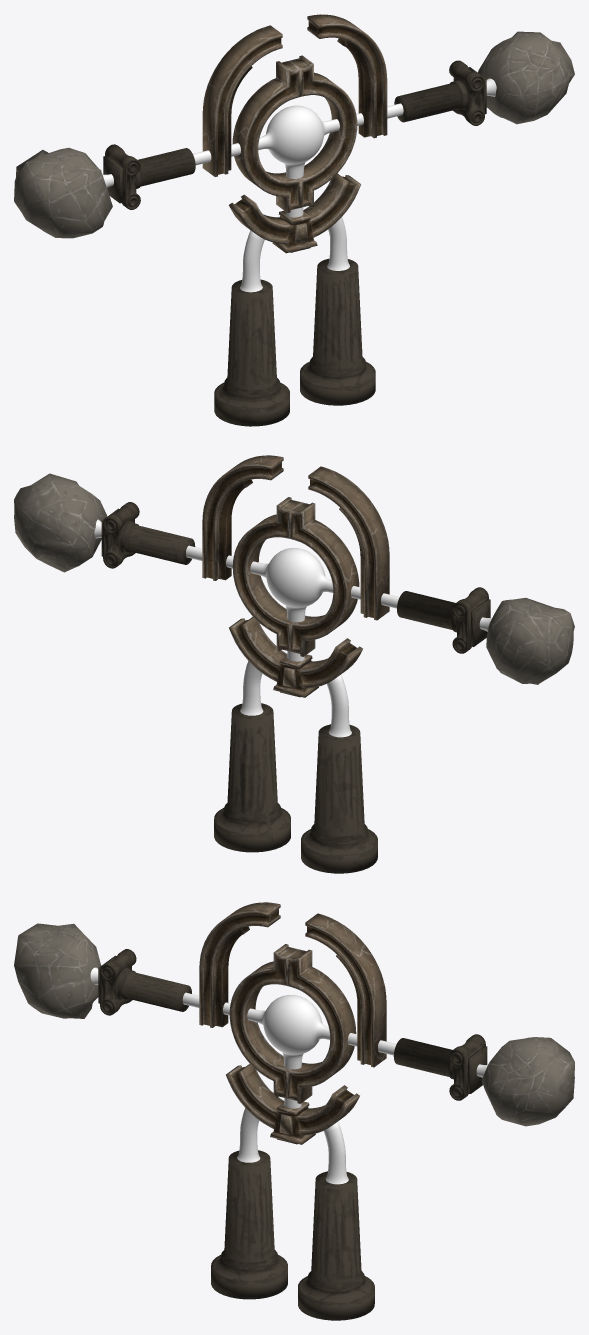
The model's file is animacion jefe.fbx.
3 views of the same model, one above another, from view 1: azimuth 30°, elevation 25°; view 2: azimuth 150°, elevation 25°; view 3: azimuth 330°, elevation 25° (orthographic).
Visible parts, largest first — view 1: pieza 1.007, pieza 2.004, pieza 2.007, pieza 3.004, cuerpo .001, pieza 3.005, pieza 1.005, pieza 1.004, pieza 1.006, pieza 2.005, pieza 2.006; view 2: pieza 1.007, pieza 2.004, pieza 2.007, pieza 3.005, cuerpo .001, pieza 3.004, pieza 1.005, pieza 1.004, pieza 1.006, pieza 2.005, pieza 2.006; view 3: pieza 1.007, pieza 2.007, pieza 2.004, pieza 3.004, pieza 3.005, cuerpo .001, pieza 1.006, pieza 1.004, pieza 1.005, pieza 2.006, pieza 2.005.
Boxes of the visible parts, box(x1,y1,x2,y2) form: pieza 1.007: box(232, 55, 357, 212); pieza 2.004: box(300, 258, 375, 405); pieza 2.007: box(214, 279, 289, 426); pieza 3.004: box(14, 147, 112, 238); cuerpo .001: box(102, 78, 496, 292); pieza 3.005: box(478, 31, 574, 124); pieza 1.005: box(202, 25, 282, 176); pieza 1.004: box(229, 173, 360, 253); pieza 1.006: box(307, 14, 387, 138); pieza 2.005: box(394, 60, 486, 125); pieza 2.006: box(103, 144, 195, 209); pieza 1.007: box(232, 497, 359, 656); pieza 2.004: box(214, 703, 290, 852); pieza 2.007: box(301, 724, 377, 873); pieza 3.005: box(14, 473, 107, 572); cuerpo .001: box(94, 519, 491, 737); pieza 3.004: box(486, 598, 574, 684); pieza 1.005: box(308, 466, 389, 620); pieza 1.004: box(229, 617, 362, 697); pieza 1.006: box(202, 455, 283, 580); pieza 2.005: box(101, 502, 195, 568); pieza 2.006: box(397, 587, 490, 653); pieza 1.007: box(229, 944, 356, 1103); pieza 2.007: box(211, 1150, 287, 1299); pieza 2.004: box(298, 1171, 374, 1320); pieza 3.004: box(14, 923, 101, 1018); pieza 3.005: box(481, 1037, 574, 1126); cuerpo .001: box(90, 967, 487, 1184); pieza 1.006: box(305, 913, 386, 1067); pieza 1.004: box(226, 1064, 359, 1144); pieza 1.005: box(199, 902, 280, 1027); pieza 2.006: box(98, 949, 191, 1015); pieza 2.005: box(393, 1034, 487, 1100).
Bounding box in the file's own units: 1506 × 988 × 206.
